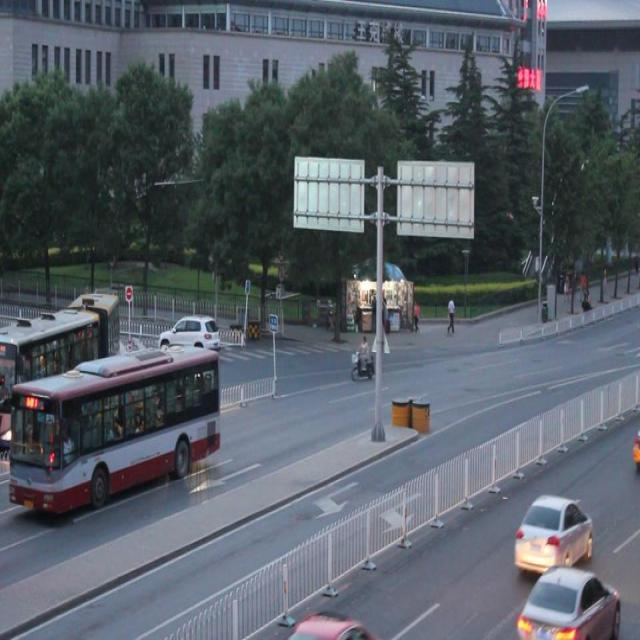car: (513, 564, 618, 640), (511, 492, 591, 570), (284, 603, 372, 640), (162, 309, 223, 359), (121, 332, 167, 387)
van: (11, 346, 220, 516), (1, 290, 122, 447)
